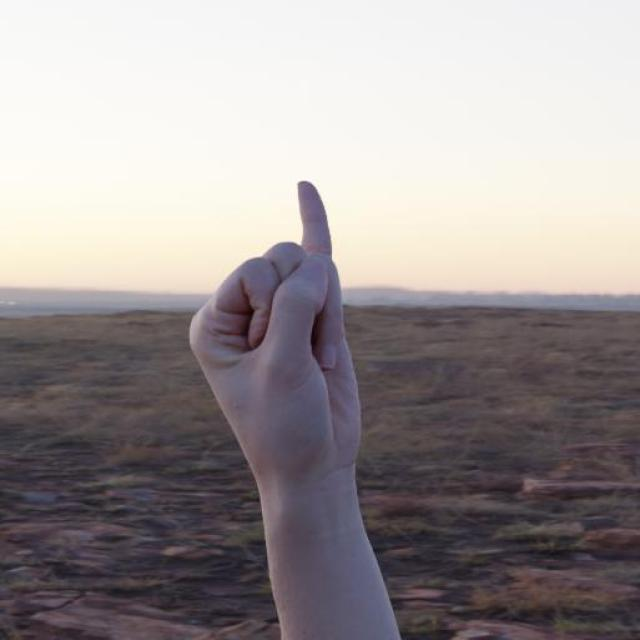I: (186, 177, 364, 492)
